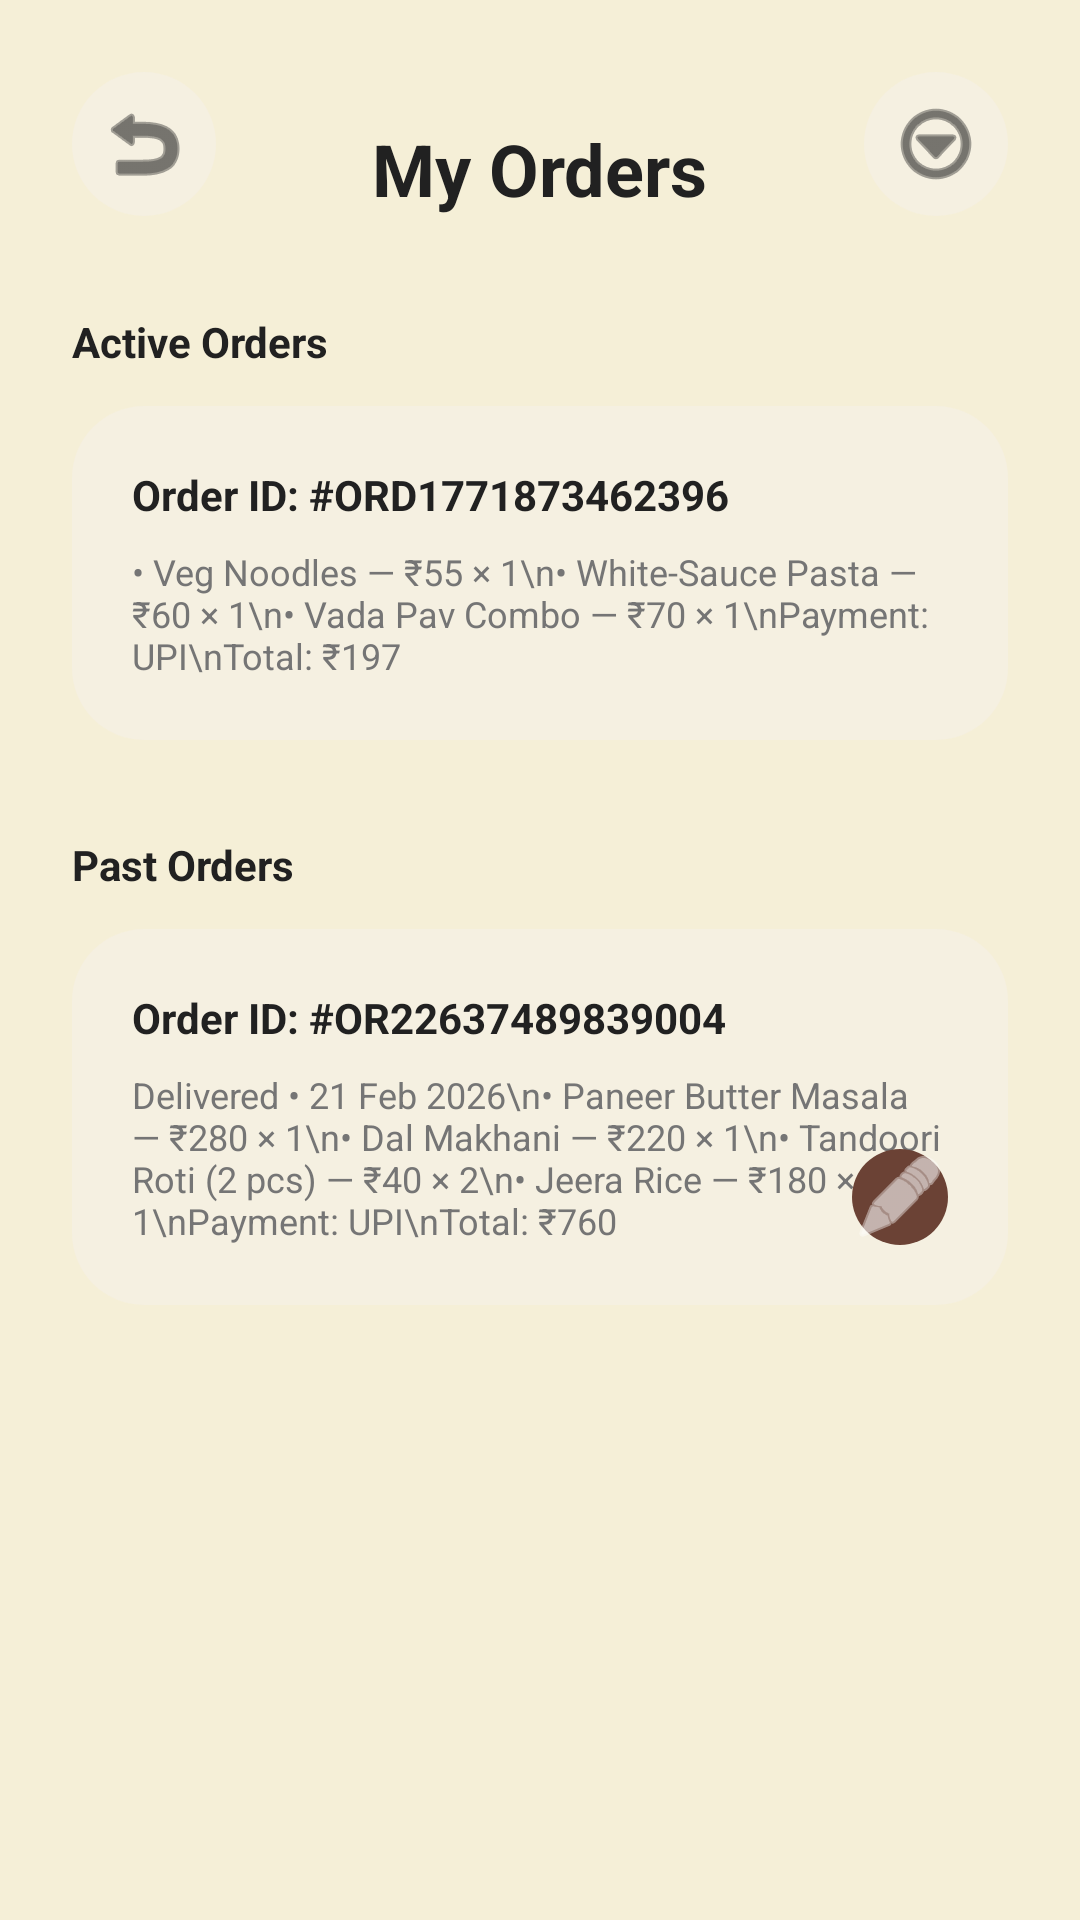

Icons on this 1080 × 1920 Android screen, each with the point to tap as [x,y]:
edit: [900,1197]
revert: [145,144]
